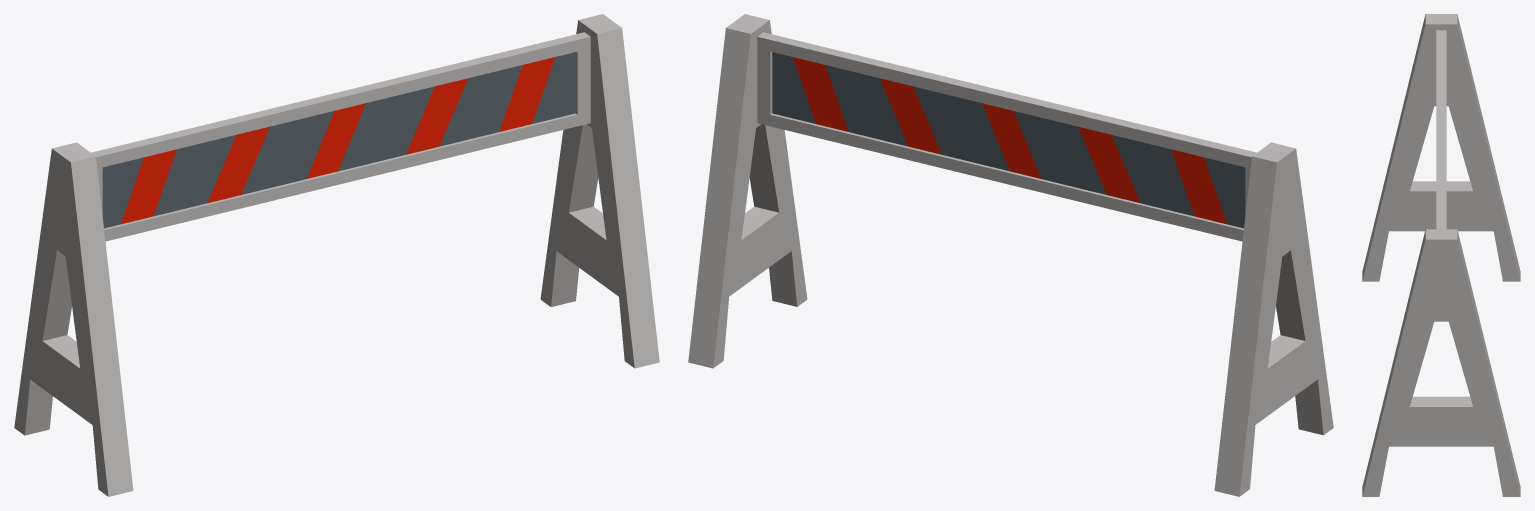
File: Traffic Barrier_3.fbx
3 views of the same model, side by side, from view 1: azimuth 30°, elevation 25°; view 2: azimuth 150°, elevation 25°; view 3: azimuth 270°, elevation 25° (orthographic). The views are drawn at different scales.
Visible parts, largest first — view 1: Traffic Barrier_3; view 2: Traffic Barrier_3; view 3: Traffic Barrier_3.
Boxes of the visible parts, box(x1,y1,x2,y2) form: Traffic Barrier_3: box(14, 14, 659, 496); Traffic Barrier_3: box(688, 14, 1333, 496); Traffic Barrier_3: box(1362, 14, 1520, 496).
Size of the model in its own units: 225 by 120 by 66.81.
